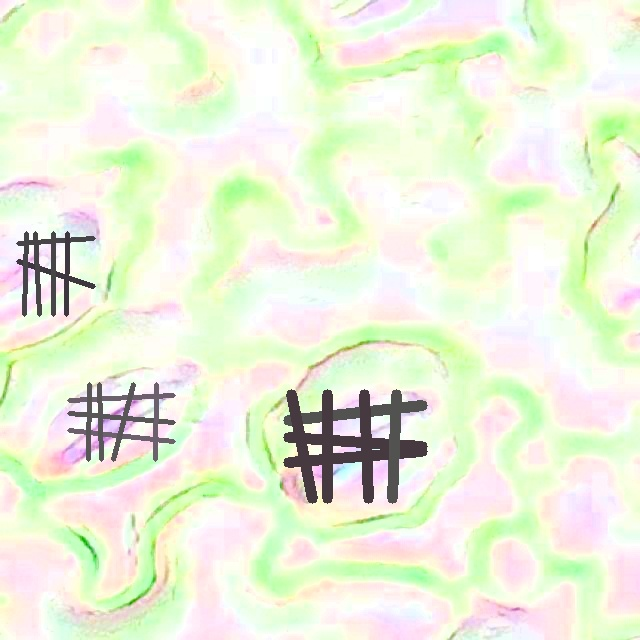open: (283, 389, 427, 502), (67, 382, 175, 461), (16, 231, 95, 316)
